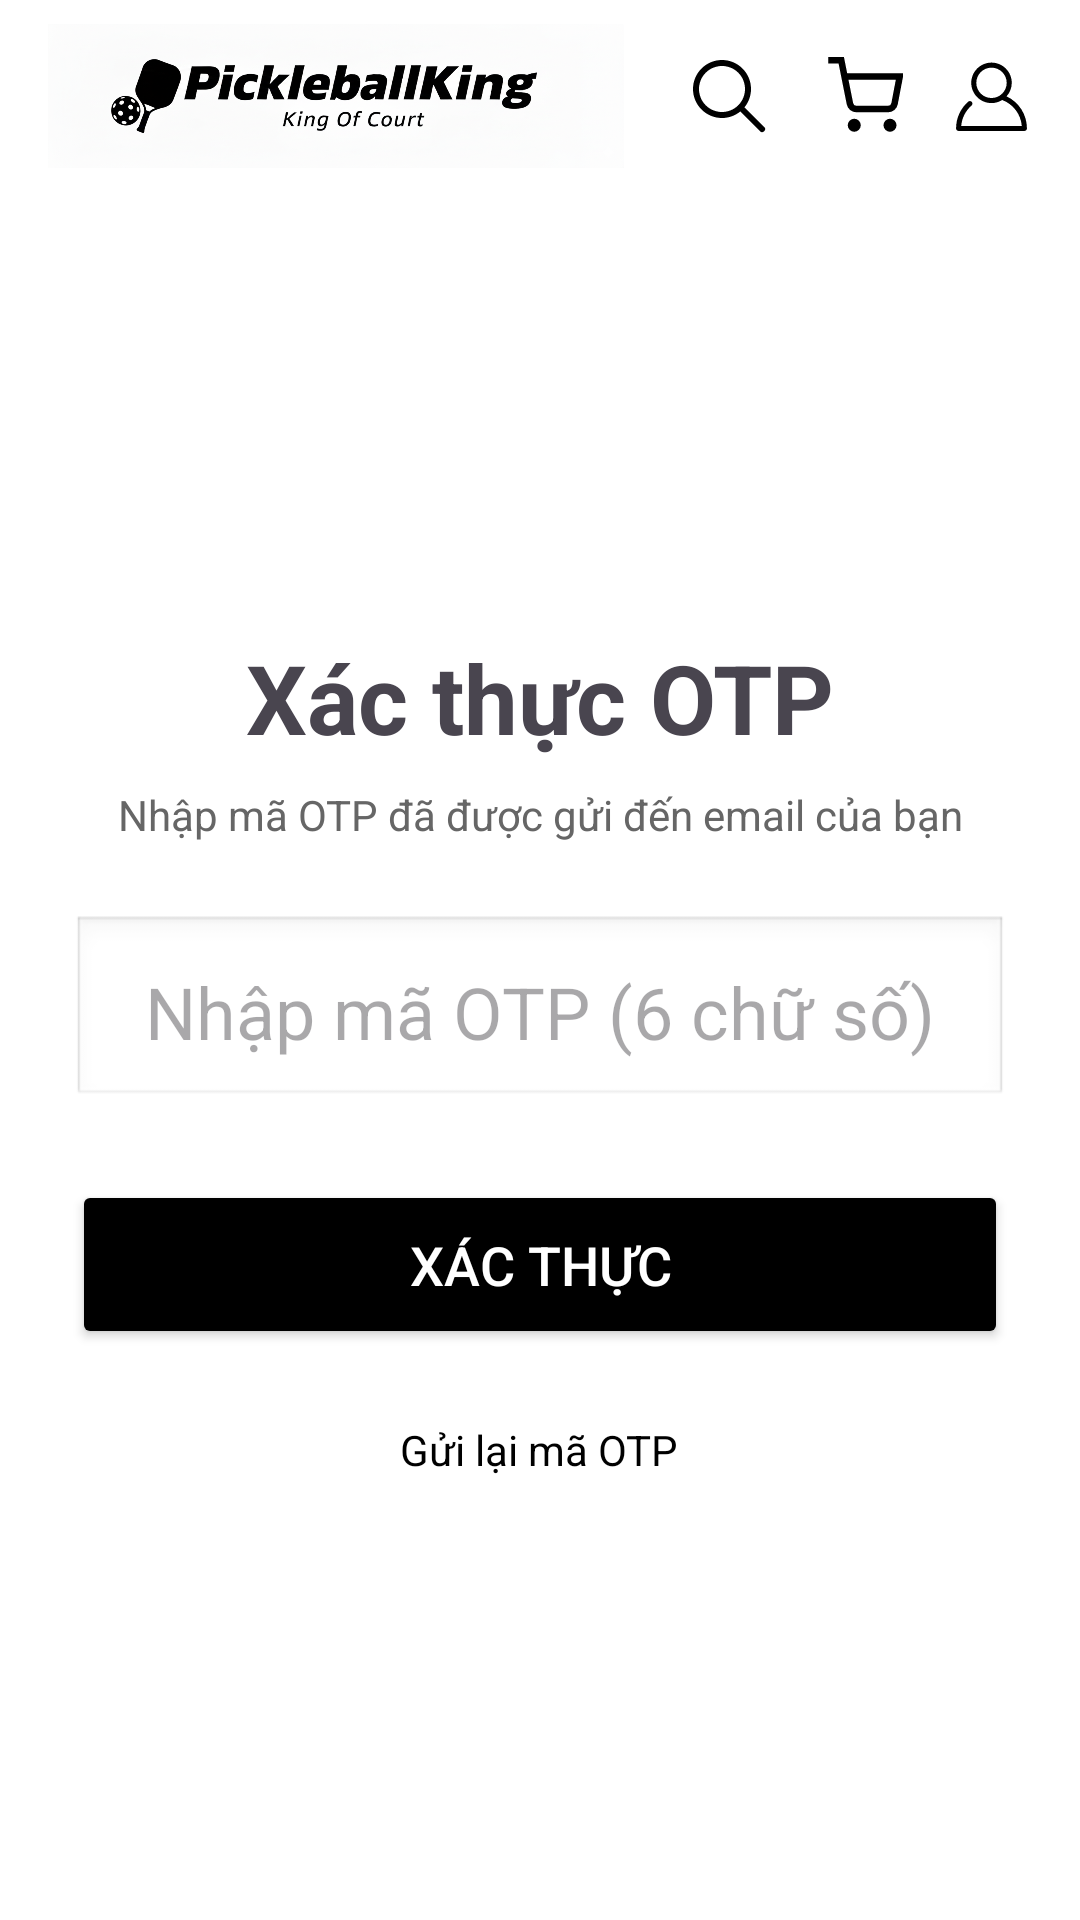

Where to tap for icons on this 1080×1920 app screen, as [x,y]:
Account: [991,96]
Cart: [865,94]
Search: [729,96]
